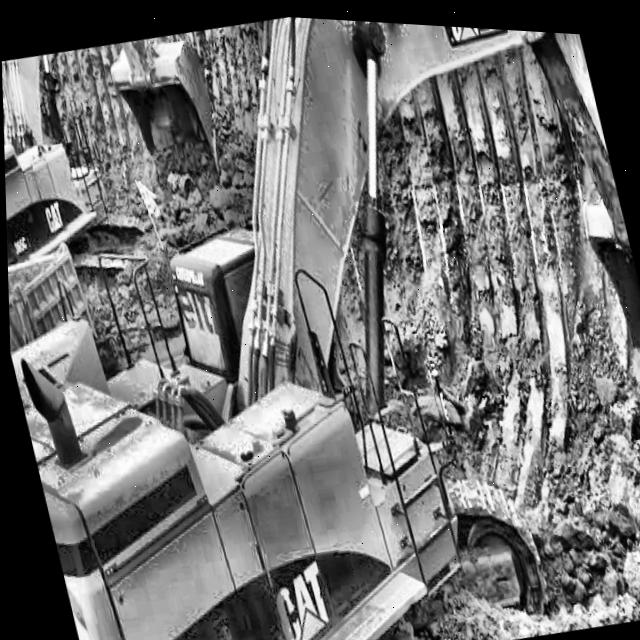excavator: (0, 0, 640, 640), (0, 19, 248, 303)
